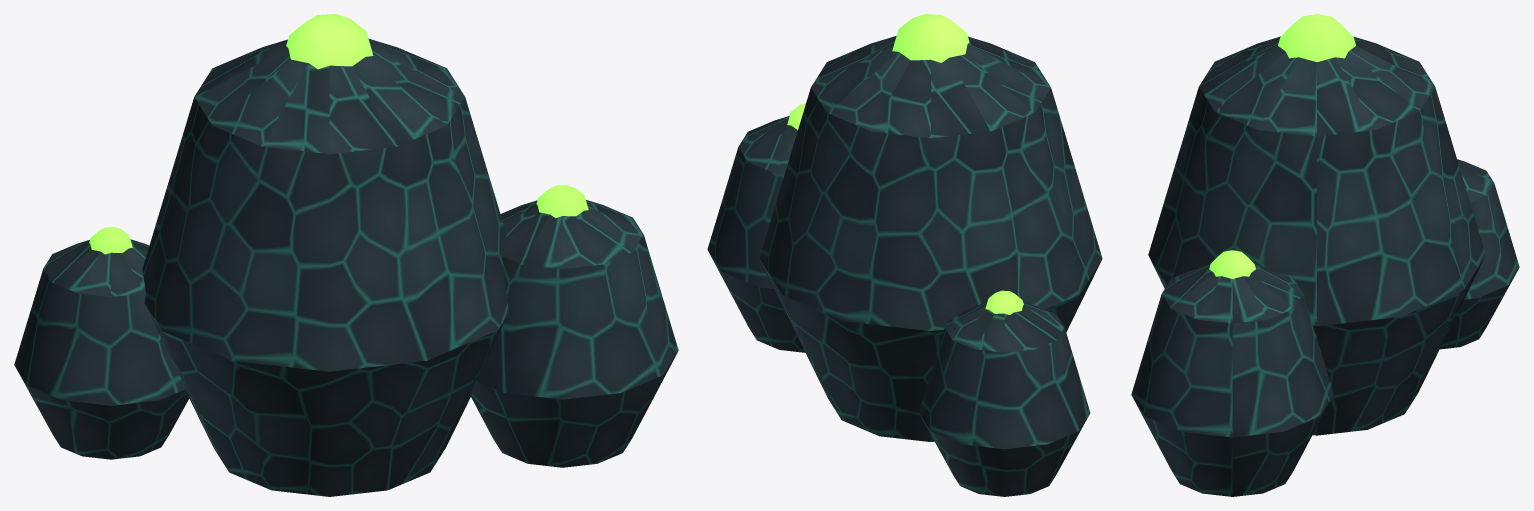
The model's file is sf_mushroom.glb.
3 renders of one model, left to right at view 1: azimuth 30°, elevation 25°; view 2: azimuth 150°, elevation 25°; view 3: azimuth 270°, elevation 25°, orthographic. The views are drawn at different scales.
Parts seen in each view (by area): view 1: Base; view 2: Base; view 3: Base.
Part boxes in pixels (bbox=[...]): Base: bbox=[14, 14, 678, 496]; Base: bbox=[707, 14, 1102, 496]; Base: bbox=[1131, 14, 1519, 496].
Bounding box in the file's own units: 0.62 × 0.51 × 0.46.
2 materials, 2 textured.
